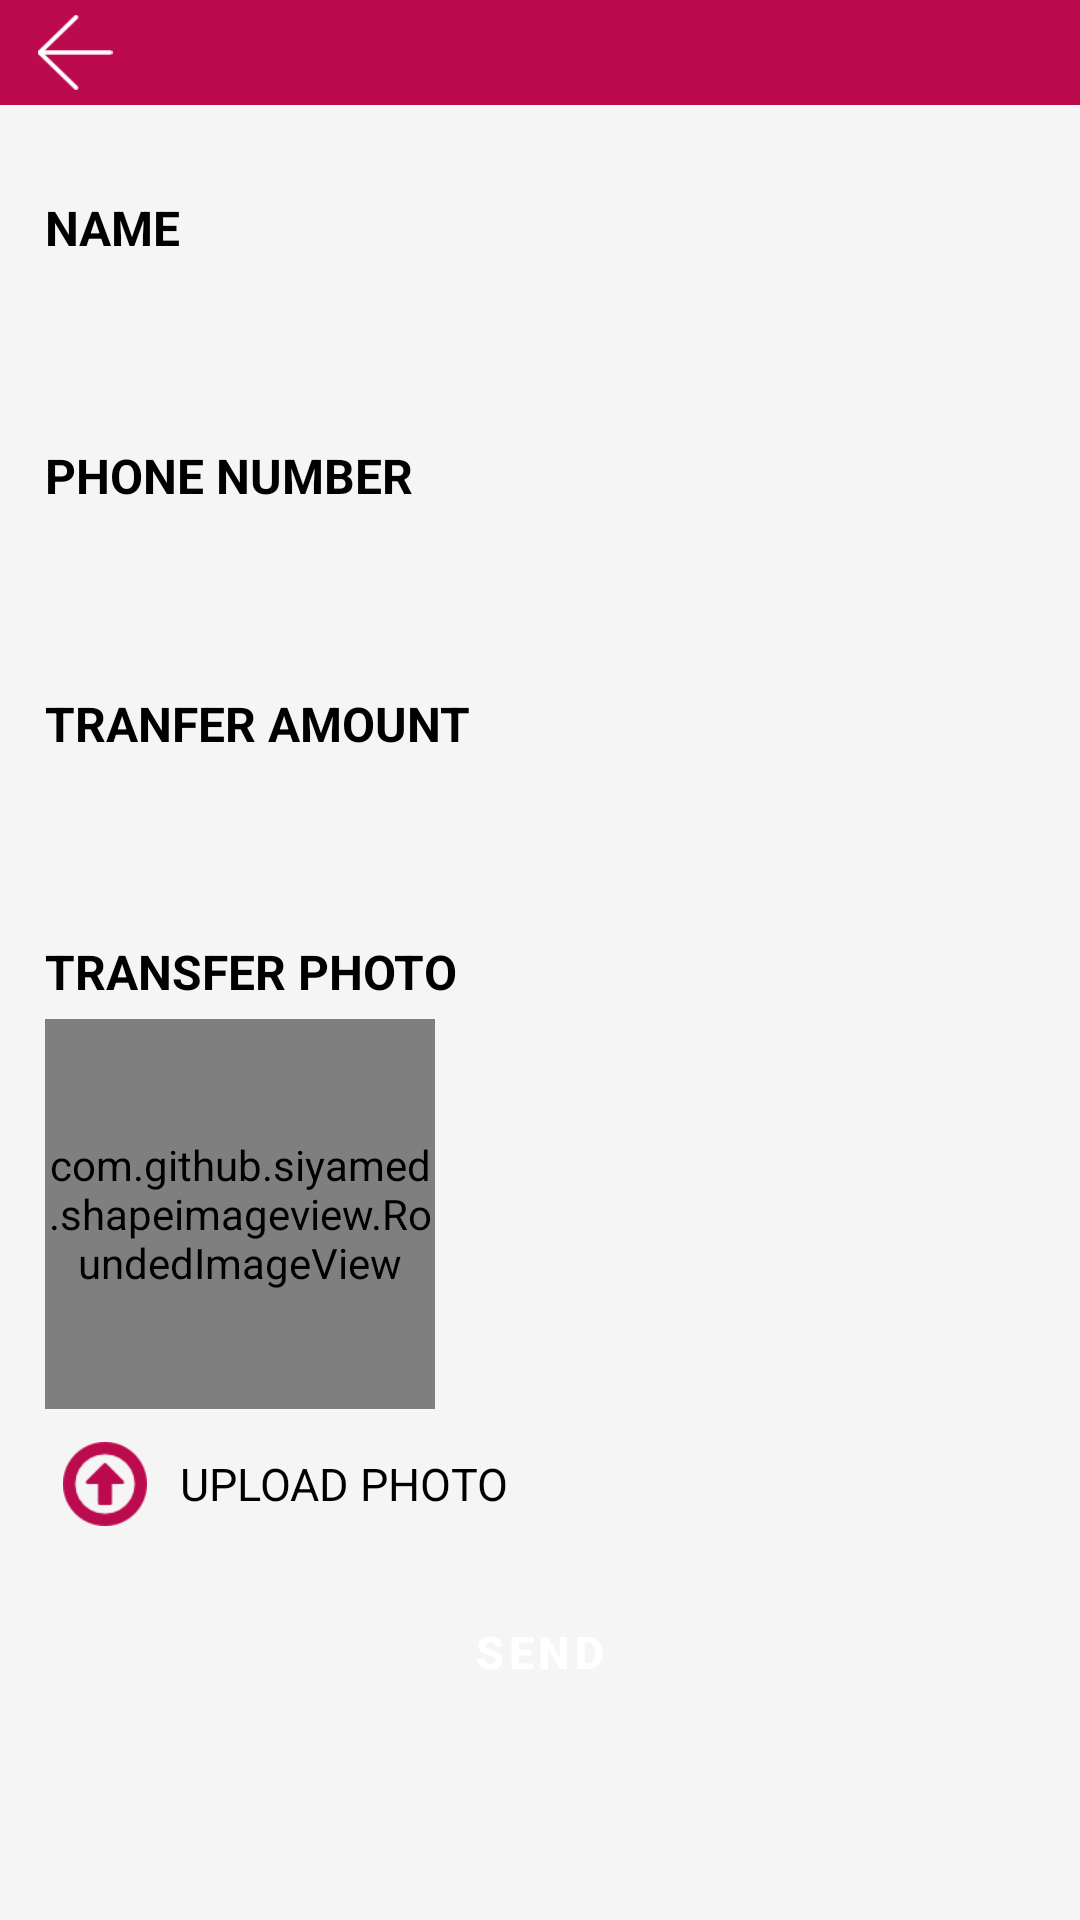

Named icons in this screenshot (1080px×1920px) and their bounding boxes, (x1, y1, x2, y2):
arrow: (38, 15, 113, 90)
